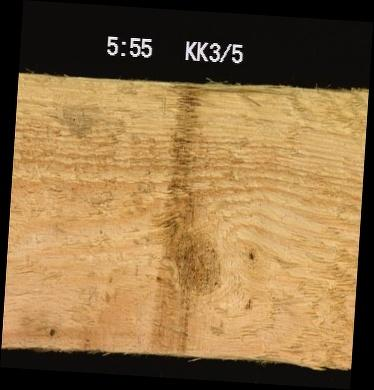small_knot: (244, 248, 257, 262), (46, 324, 57, 339)
sound_knot: (161, 225, 226, 298)
